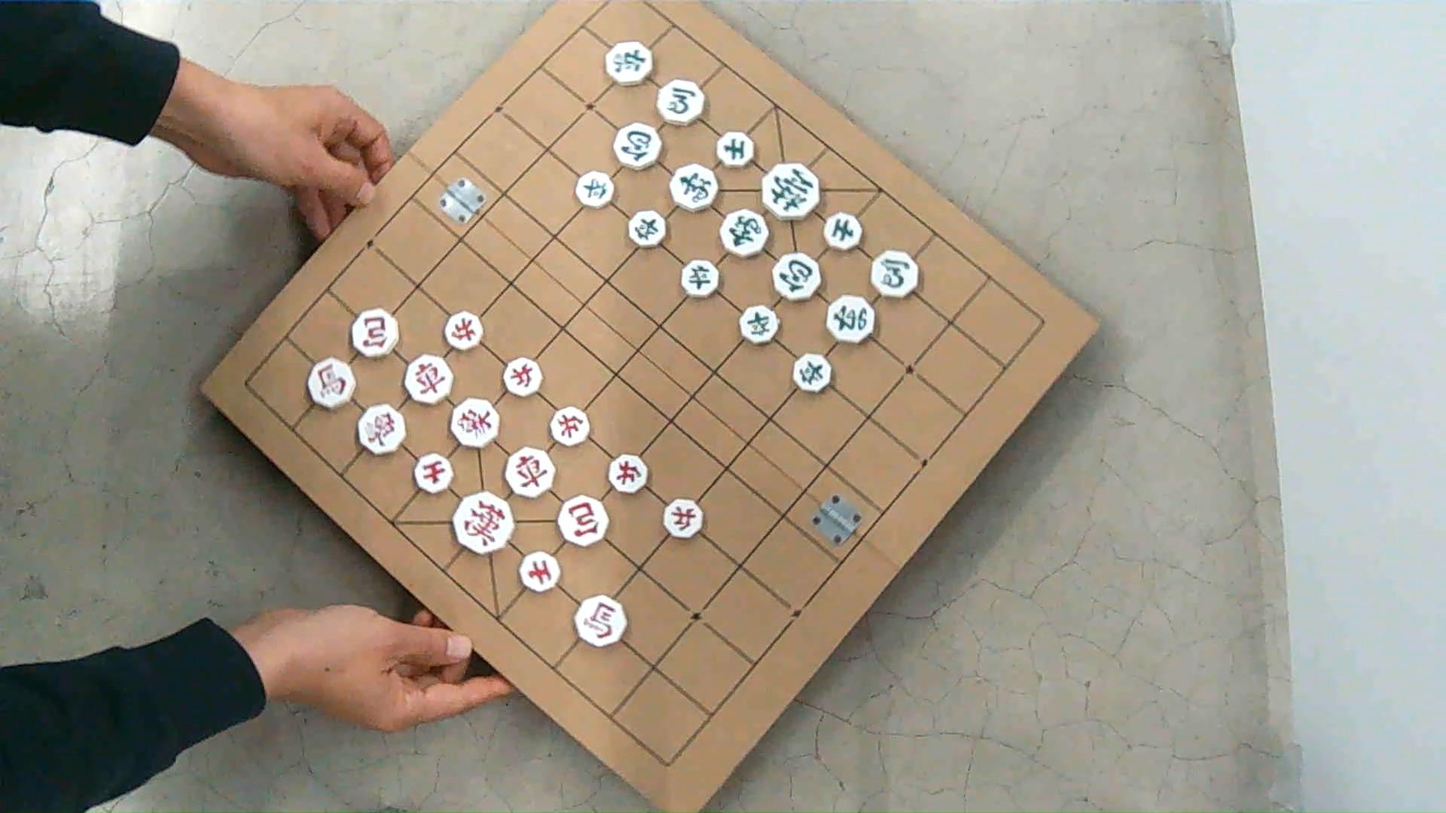cha_green: (827, 294, 877, 343), (606, 41, 654, 85)
cha_red: (504, 447, 554, 498), (404, 355, 452, 404)
jol_green: (793, 353, 832, 392), (738, 305, 778, 343), (575, 170, 613, 207), (682, 260, 719, 297), (628, 211, 666, 246)
jol_red: (549, 406, 590, 446), (607, 454, 648, 494), (663, 498, 703, 539), (444, 311, 483, 351), (503, 358, 542, 397)
ma_green: (871, 251, 920, 298), (656, 80, 705, 124)
ma_red: (575, 595, 627, 647), (307, 357, 354, 409)
po_green: (772, 252, 821, 301), (613, 123, 660, 169)
po_red: (557, 495, 608, 546), (350, 309, 398, 358)
sa_green: (823, 212, 862, 251), (715, 131, 753, 168)
sa_red: (519, 550, 560, 592), (413, 452, 452, 493)
sang_green: (670, 163, 718, 211), (720, 209, 768, 257)
sang_red: (450, 398, 499, 448), (357, 404, 405, 454)
wang_green: (760, 162, 820, 221)
wang_red: (453, 492, 514, 554)
